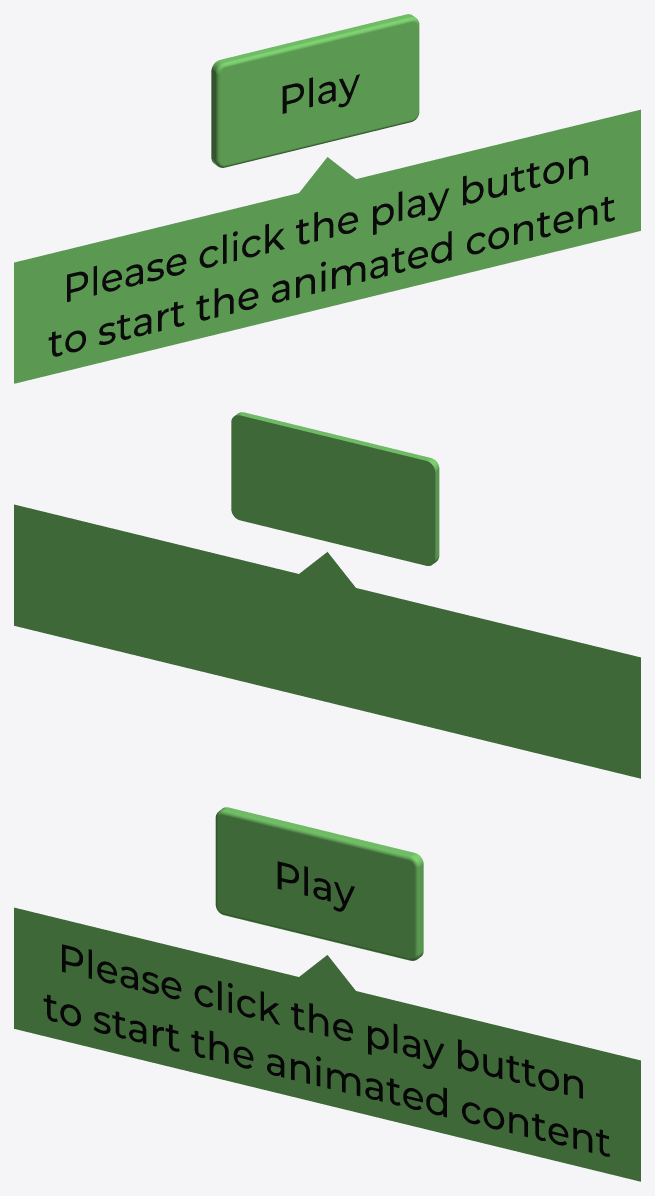
File: BPLay.glb
The picture shows the model from 3 angles, top to bottom: view 1: azimuth 30°, elevation 25°; view 2: azimuth 150°, elevation 25°; view 3: azimuth 330°, elevation 25°; orthographic projection.
Visible parts, largest first — view 1: Text; view 2: Text; view 3: Text.
Boxes of the visible parts, left/top/right/bottom form: Text: left=14, top=14, right=640, bottom=383; Text: left=14, top=412, right=640, bottom=778; Text: left=14, top=807, right=640, bottom=1181.
Size of the model in its own units: 1.6 by 0.658 by 0.0296.
Materials: 2 (2 with a texture image).
